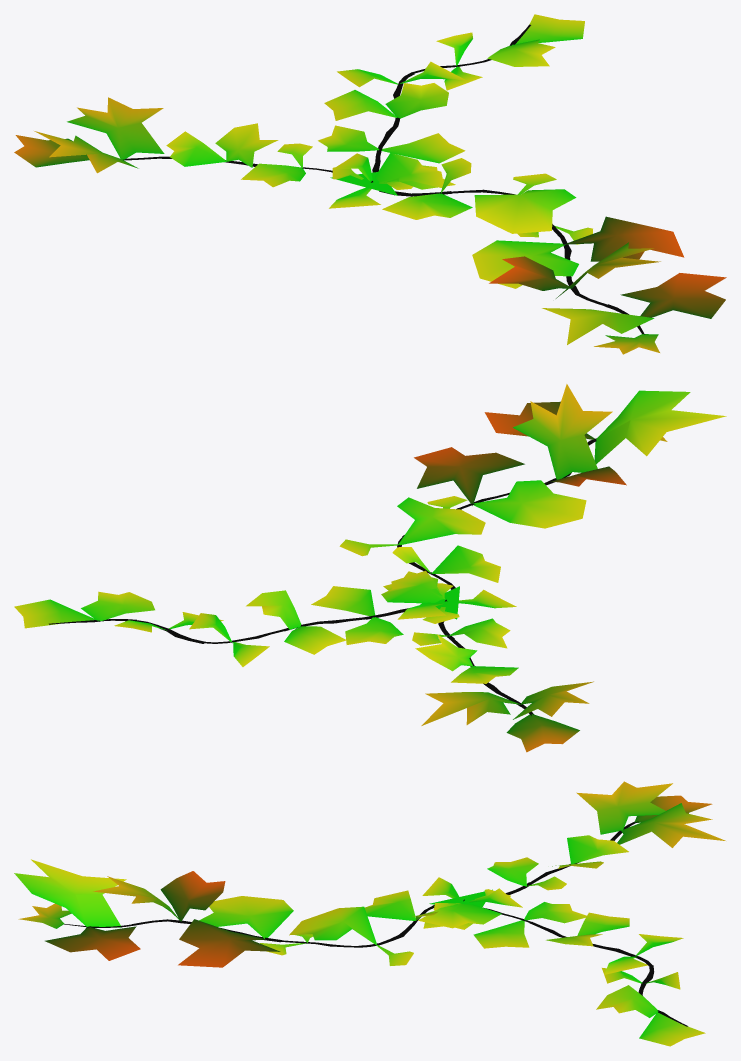
File: Mile-a-minute Vine_LOD0_Var4_sfqns.fbx
3 views of the same model, one above another, from view 1: azimuth 30°, elevation 25°; view 2: azimuth 150°, elevation 25°; view 3: azimuth 270°, elevation 25° (orthographic). The views are drawn at different scales.
Parts seen in each view (by area): view 1: _e294_Var4_LOD0; view 2: _e294_Var4_LOD0; view 3: _e294_Var4_LOD0.
Part boxes in pixels (x1=…): _e294_Var4_LOD0: x1=14, y1=14, x2=726, y2=354; _e294_Var4_LOD0: x1=14, y1=384, x2=726, y2=752; _e294_Var4_LOD0: x1=14, y1=781, x2=725, y2=1046.
Size of the model in its own units: 41.25 by 4.29 by 49.88.
